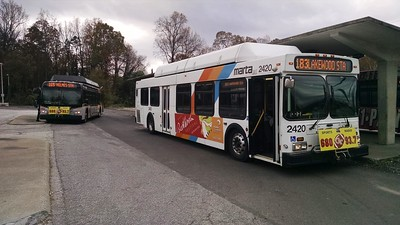bus: (134, 41, 368, 168), (36, 74, 103, 122)
